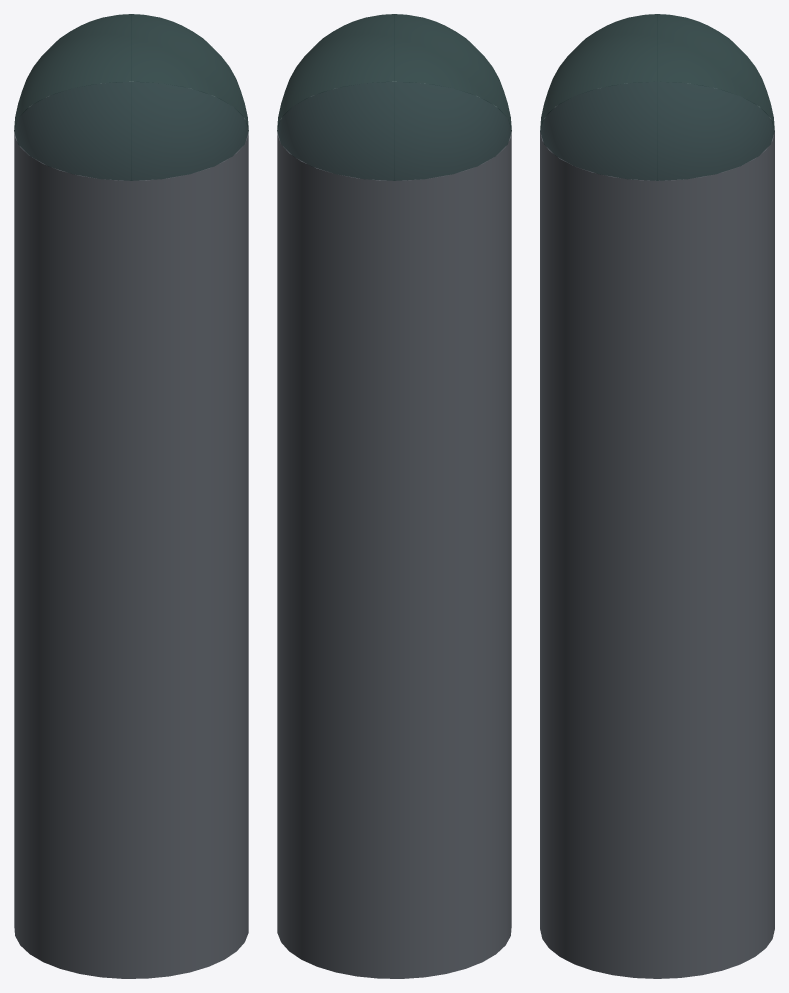
The model's file is skyscraper_02.obj.
The picture shows the model from 3 angles, left to right: view 1: azimuth 30°, elevation 25°; view 2: azimuth 150°, elevation 25°; view 3: azimuth 270°, elevation 25°; orthographic projection.
Parts seen in each view (by area): view 1: Skyscraper02; view 2: Skyscraper02; view 3: Skyscraper02.
Boxes of the visible parts, box(x1,y1,x2,y2) form: Skyscraper02: box(14, 14, 248, 978); Skyscraper02: box(277, 14, 511, 978); Skyscraper02: box(540, 14, 774, 978).
Bounding box in the file's own units: 16 × 68 × 16.
